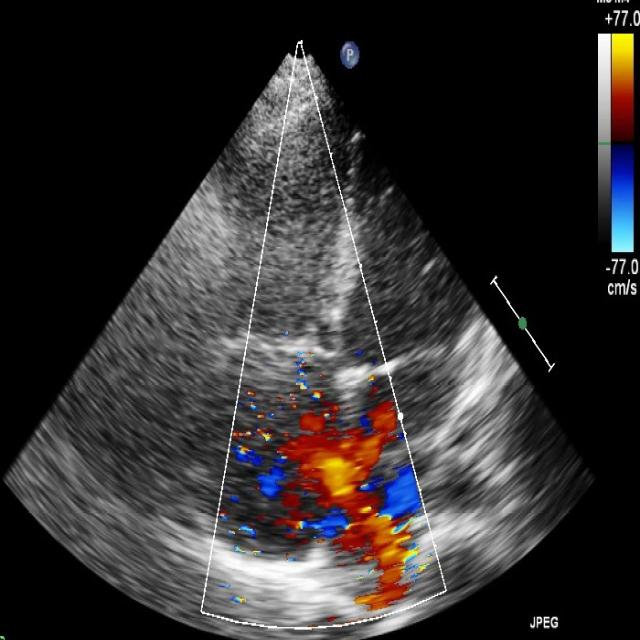ASDType2: (251, 367, 422, 552)
